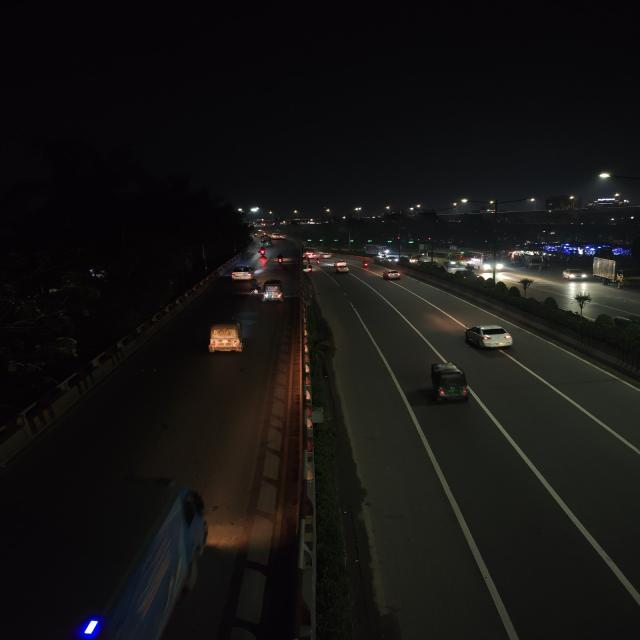bus: (432, 250, 474, 270), (473, 252, 504, 272)
car: (461, 322, 516, 356), (230, 264, 256, 282), (561, 267, 588, 283), (382, 268, 404, 282), (332, 262, 351, 274), (305, 250, 320, 260), (272, 232, 285, 240)
cng: (421, 361, 474, 407), (204, 318, 252, 358), (259, 278, 285, 304), (302, 263, 313, 274)
motorcycle: (570, 291, 594, 311), (248, 279, 261, 295), (256, 248, 267, 258), (360, 259, 371, 269)
truck: (592, 255, 640, 290)
